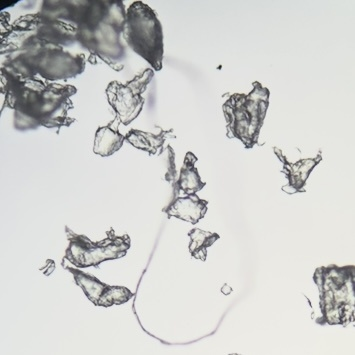microplastic: (1, 1, 125, 134), (93, 68, 177, 211), (61, 225, 136, 307), (222, 81, 270, 149), (165, 151, 208, 223), (123, 1, 165, 70), (313, 265, 355, 325), (271, 148, 322, 194), (189, 228, 220, 260), (39, 259, 55, 276), (221, 283, 233, 295)
